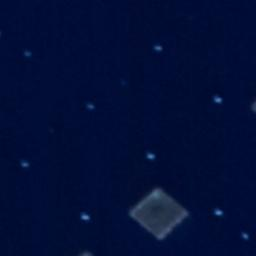square_cover: (127, 186, 192, 242)
